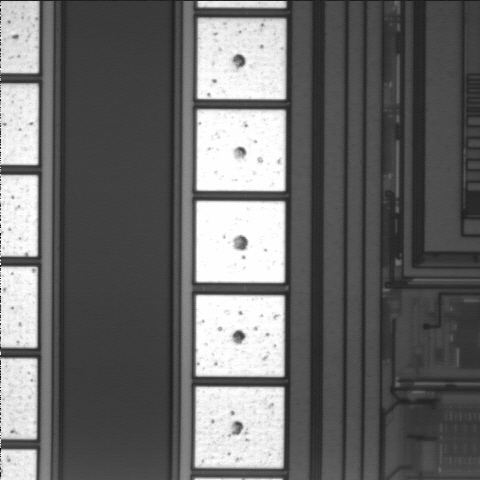pad: (196, 109, 286, 191), (196, 201, 285, 283), (196, 295, 285, 377), (197, 18, 286, 99), (195, 387, 284, 468)
